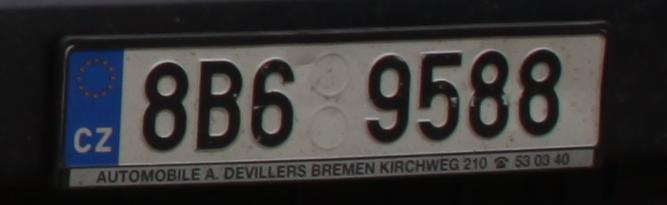5: (418, 51, 465, 143)
6: (250, 57, 298, 154)
8: (141, 60, 189, 154), (518, 47, 563, 136), (469, 49, 510, 139)
9: (366, 52, 413, 145)
B: (194, 56, 246, 155)
